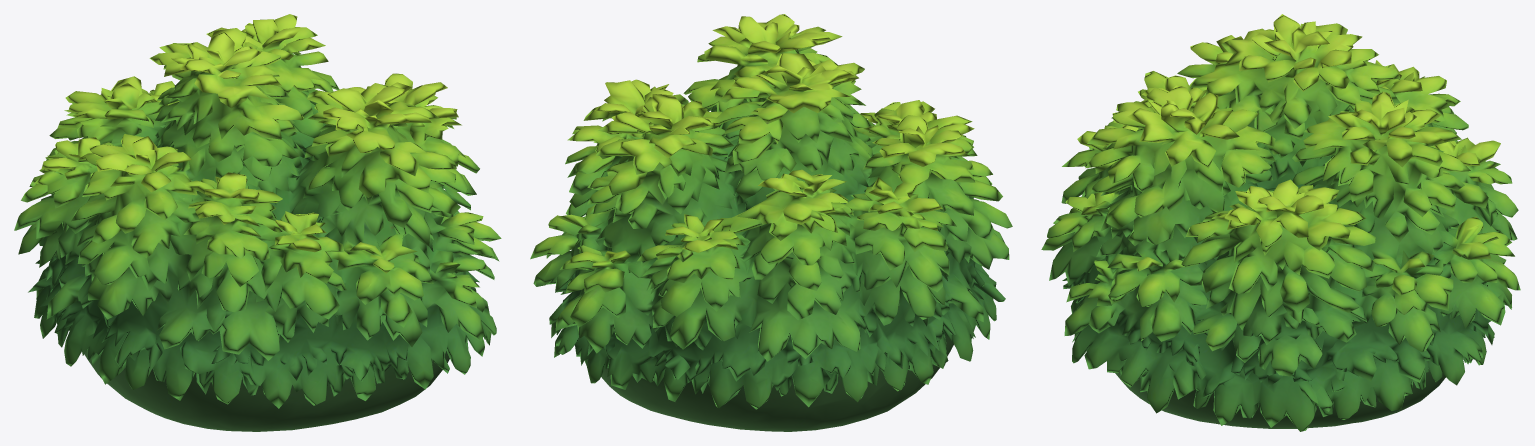
File: bush.glb
3 renders of one model, left to right at view 1: azimuth 30°, elevation 25°; view 2: azimuth 150°, elevation 25°; view 3: azimuth 270°, elevation 25°, orthographic. The views are drawn at different scales.
Parts seen in each view (by area): view 1: tripo_node_f0d31be3-8812-4814-ab9b-dae7088b7487; view 2: tripo_node_f0d31be3-8812-4814-ab9b-dae7088b7487; view 3: tripo_node_f0d31be3-8812-4814-ab9b-dae7088b7487.
Boxes of the visible parts, x1=… form: tripo_node_f0d31be3-8812-4814-ab9b-dae7088b7487: x1=14, y1=14, x2=501, y2=431; tripo_node_f0d31be3-8812-4814-ab9b-dae7088b7487: x1=530, y1=14, x2=1012, y2=431; tripo_node_f0d31be3-8812-4814-ab9b-dae7088b7487: x1=1041, y1=14, x2=1520, y2=431.
Bounding box in the file's own units: 0.9985 × 0.7512 × 1.
Materials: 1 (1 with a texture image).
